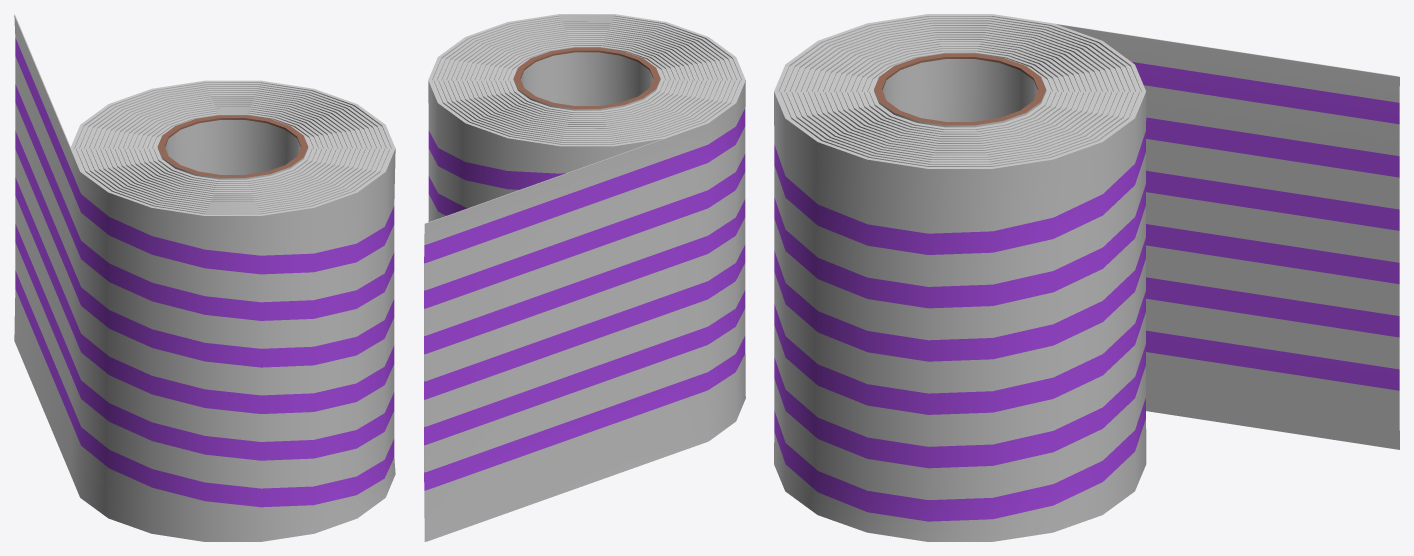
The model's file is 27L_cxLe_31.glb.
3 views of the same model, side by side, from view 1: azimuth 30°, elevation 25°; view 2: azimuth 150°, elevation 25°; view 3: azimuth 270°, elevation 25° (orthographic). The views are drawn at different scales.
Parts seen in each view (by area): view 1: Cylinder001; view 2: Cylinder001; view 3: Cylinder001.
Part boxes in pixels (x1,y1,x2,y2): Cylinder001: [14, 14, 395, 541]; Cylinder001: [424, 14, 745, 541]; Cylinder001: [774, 14, 1399, 541].
Size of the model in its own units: 0.8809 by 1 by 1.5.
